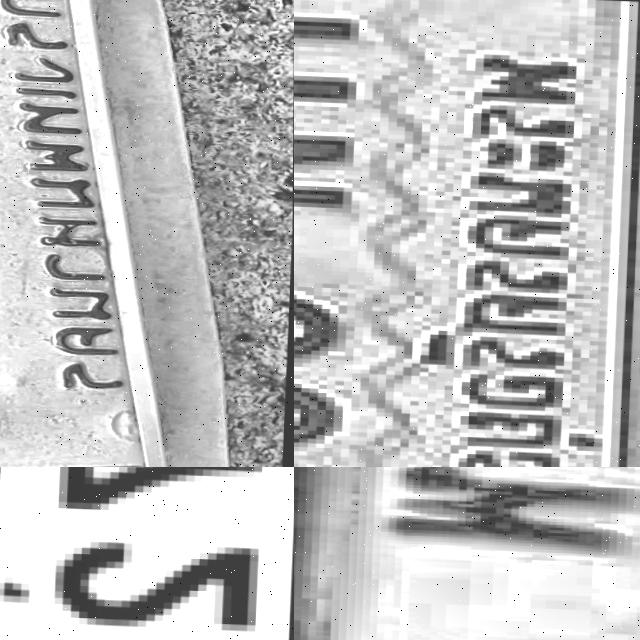license-plate: (294, 0, 640, 467), (0, 0, 294, 467), (294, 467, 640, 640), (0, 467, 294, 640)
